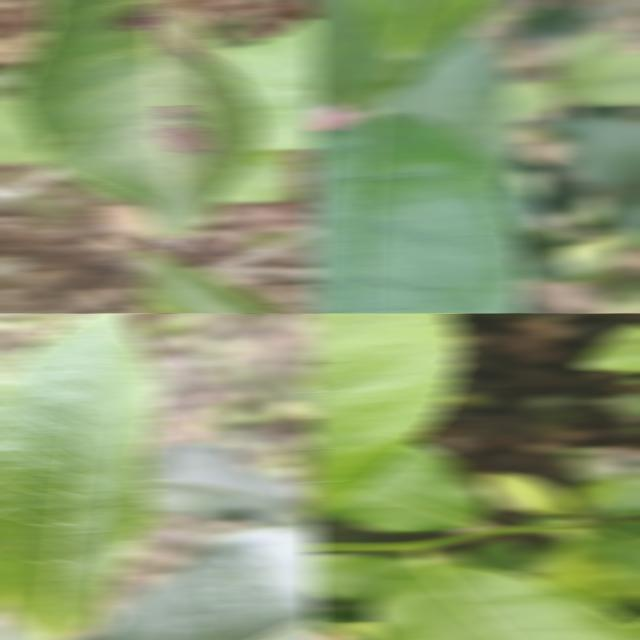Leaf: (9, 0, 262, 251), (0, 313, 162, 640), (308, 112, 528, 313), (308, 313, 463, 514), (87, 523, 318, 640), (367, 559, 640, 640), (374, 36, 519, 177), (315, 443, 490, 532), (142, 443, 308, 524), (348, 0, 488, 75), (138, 250, 285, 313), (308, 0, 395, 104), (544, 115, 640, 188), (308, 552, 417, 602), (519, 237, 623, 282), (556, 53, 640, 106), (581, 514, 640, 586), (481, 471, 576, 514), (548, 31, 622, 78), (576, 322, 640, 374), (503, 81, 564, 122)
